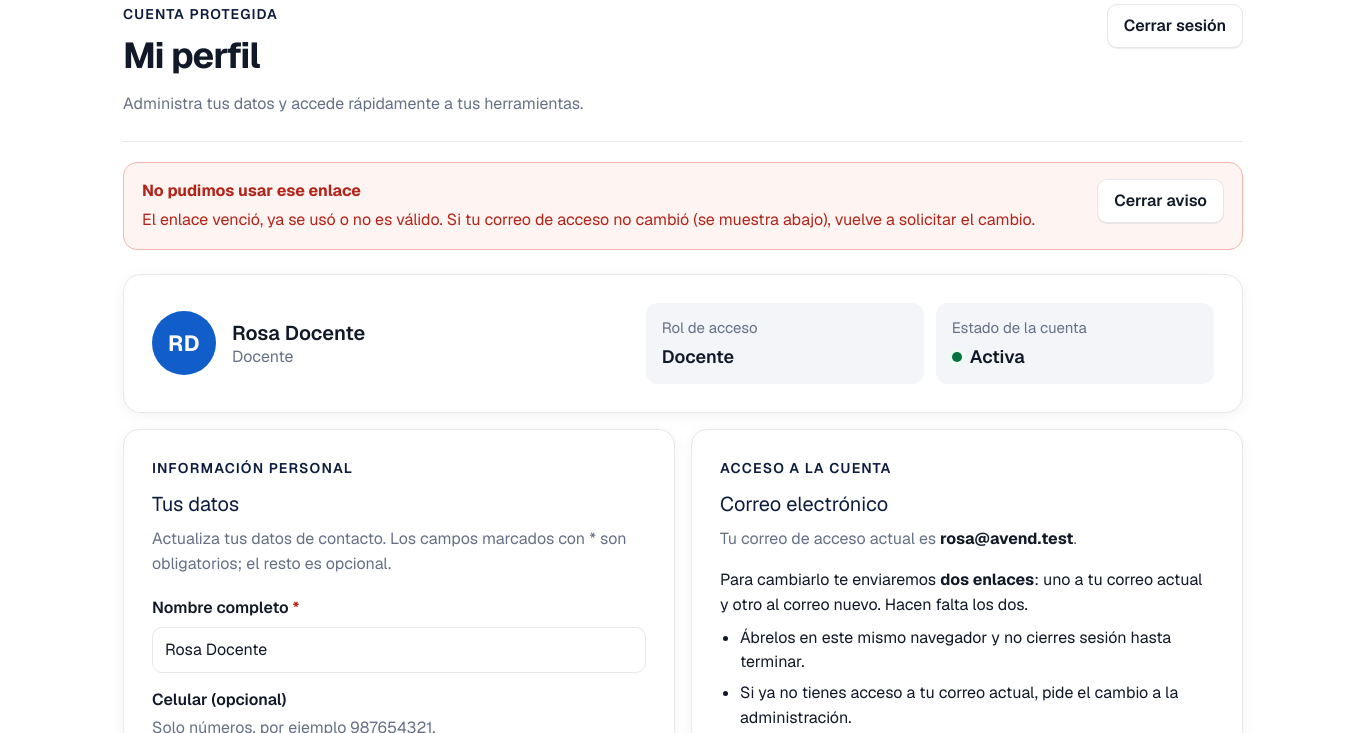
Scenario: Mi perfil › explica el resultado del cambio de correo «error» y limpia la URL
Expected: the text "El enlace venció, ya se usó o no es válido" is shown, [142,209,1035,230]
Step 1. Click the button "Cerrar aviso" → (1161, 201), box [1097,179,1224,224]
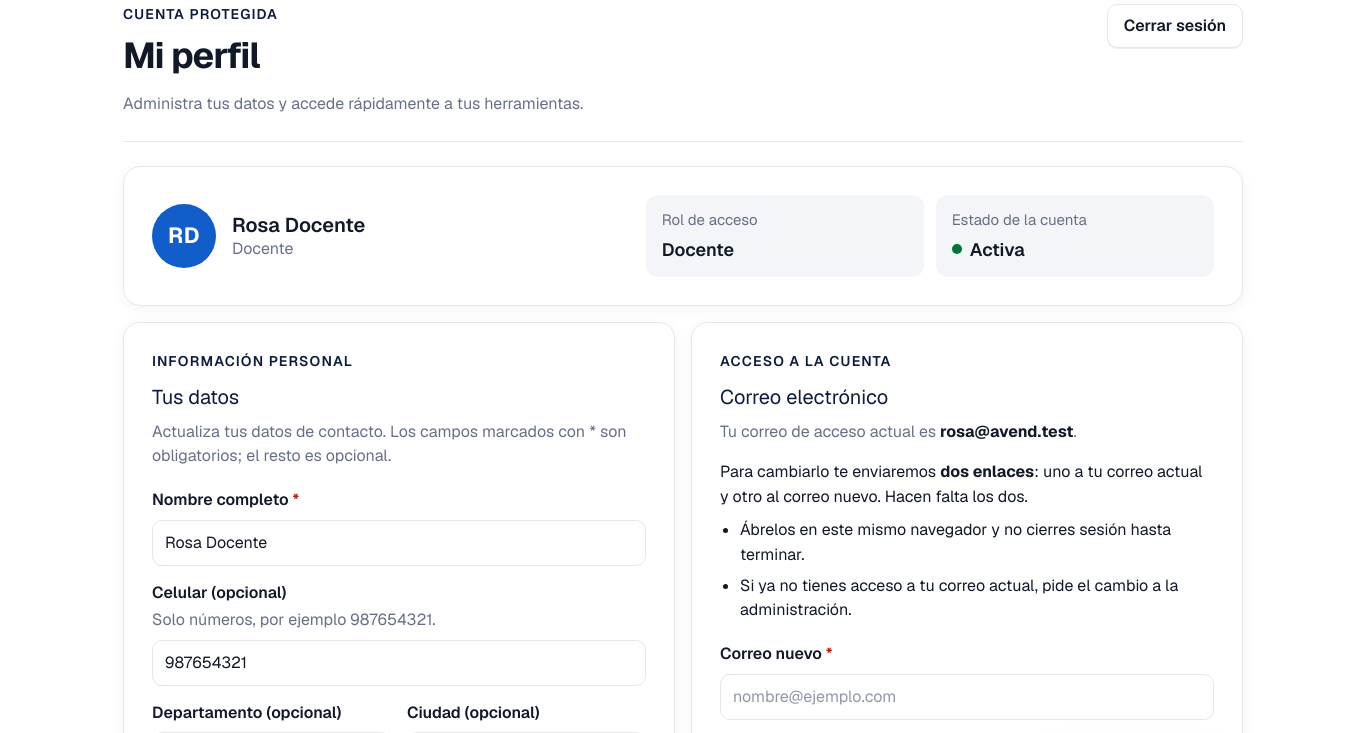
Now the text "El enlace venció, ya se usó o no es válido" is gone
